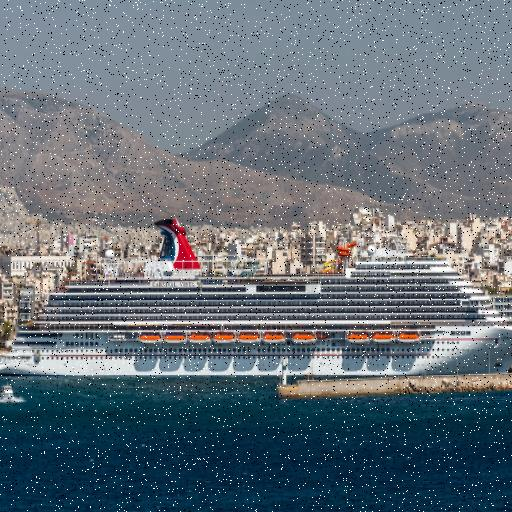cruises: (1, 207, 512, 389)
